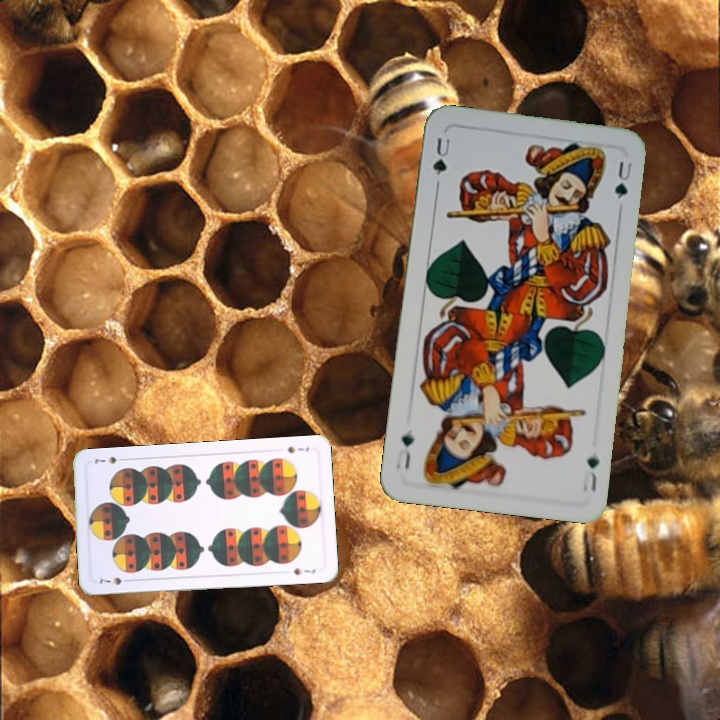GU: (429, 133, 453, 188), (578, 452, 601, 494)
S7: (95, 573, 134, 588), (283, 442, 311, 456)
